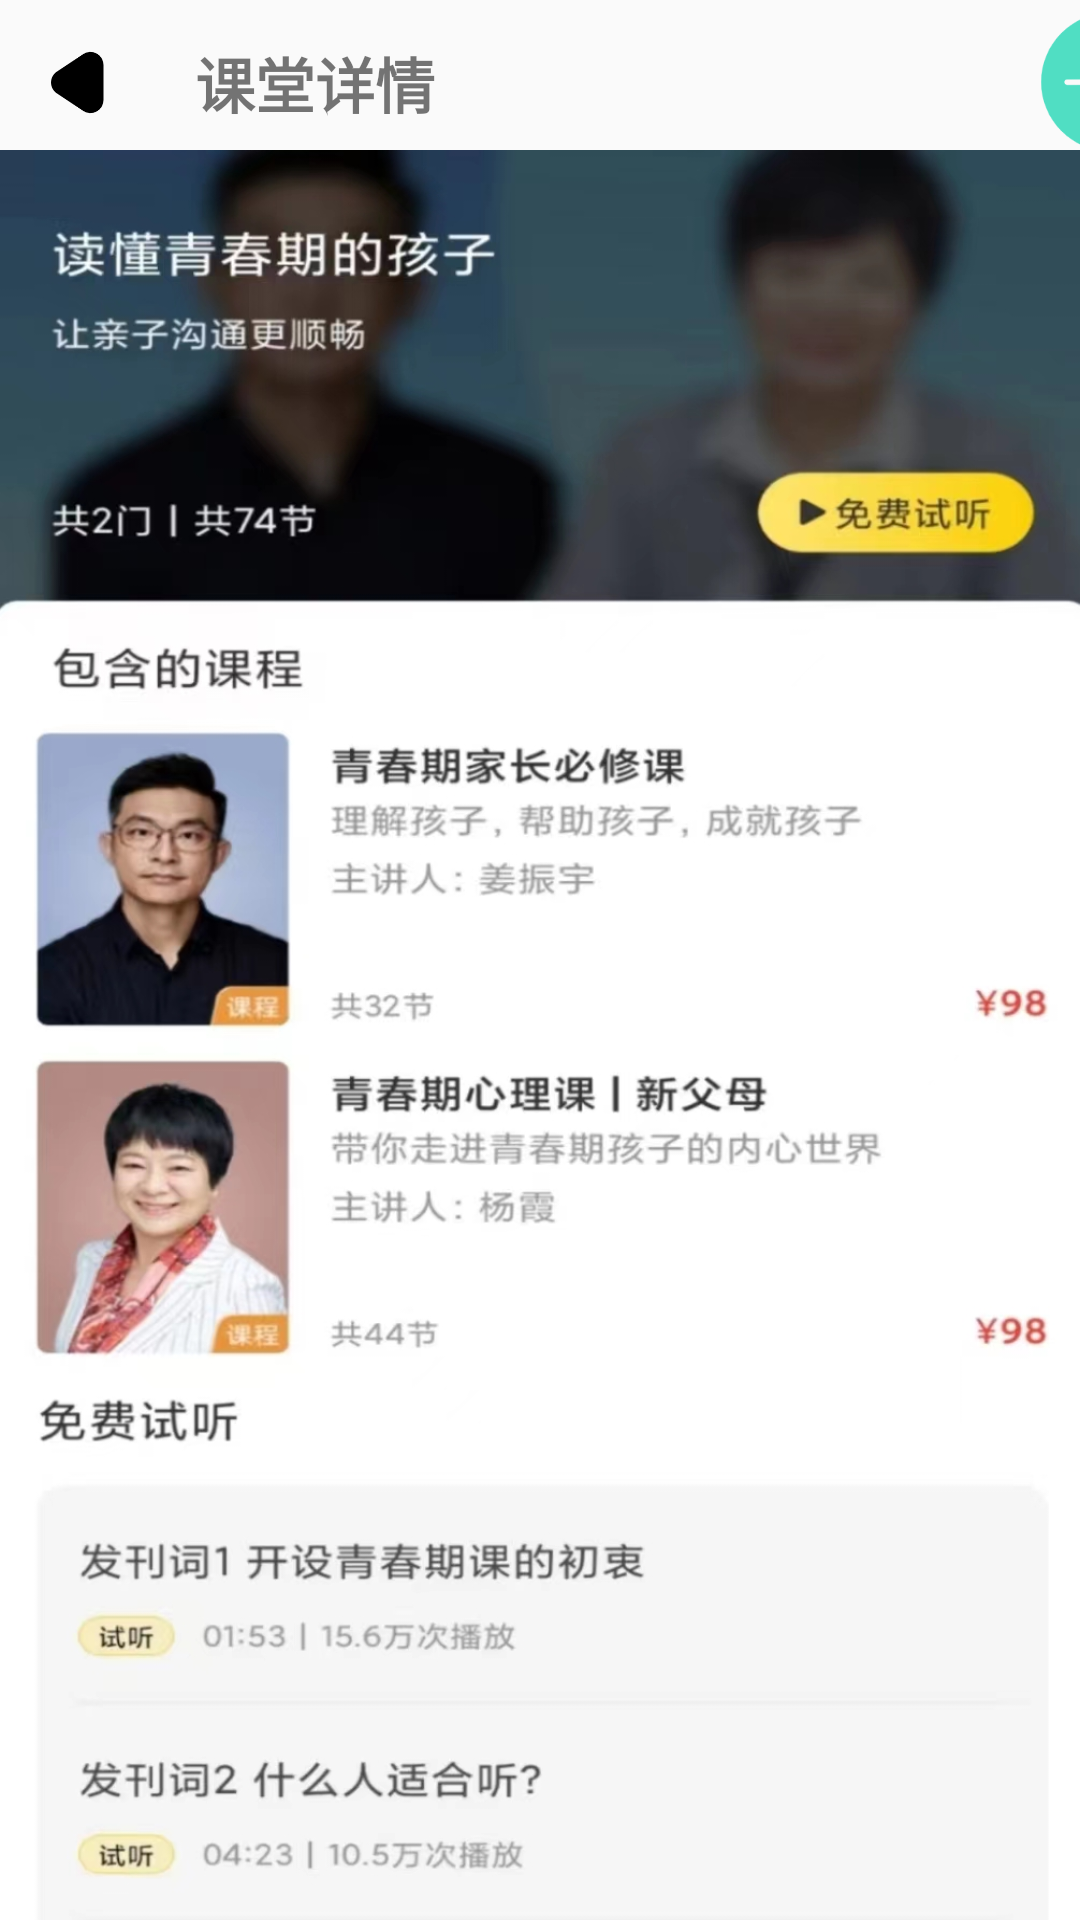

Where icons sit on this 1080x1920 app screen, as Rect(x1, y1, x2, y2):
gyx leftarrow: Rect(51, 52, 104, 113)
